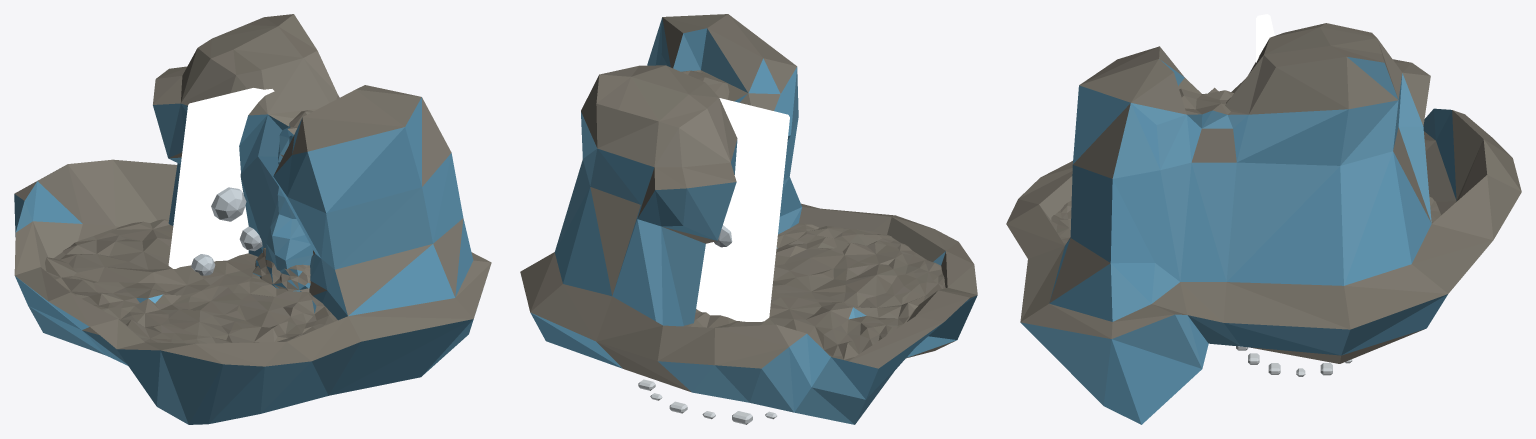
File: Waterfall.glb
3 renders of one model, left to right at view 1: azimuth 30°, elevation 25°; view 2: azimuth 150°, elevation 25°; view 3: azimuth 270°, elevation 25°, orthographic. The views are drawn at different scales.
Parts seen in each view (by area): view 1: Body, Glow; view 2: Body, Glow; view 3: Body, Glow.
Boxes of the visible parts, x1,y1,x2,y2 form: Body: (14,14,491,424); Glow: (168,88,274,268); Body: (520,14,977,424); Glow: (696,98,789,321); Body: (1006,23,1521,424); Glow: (1256,14,1274,62).
Bounding box in the file's own units: 41.32 × 30.29 × 42.
